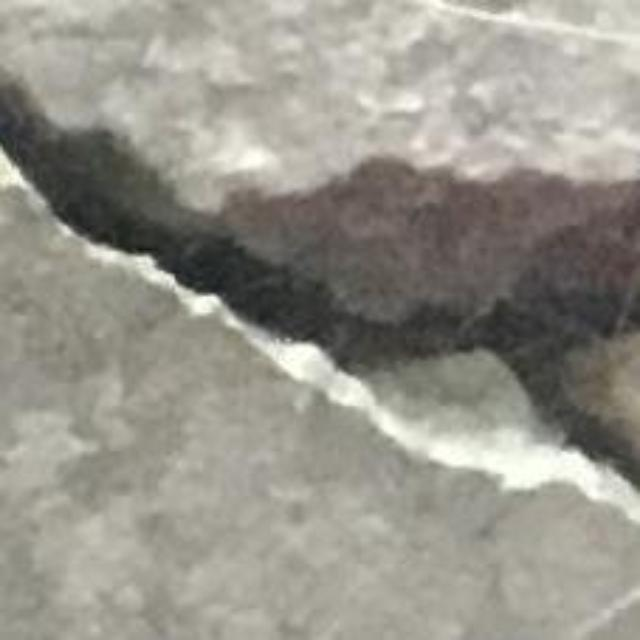crack: (0, 74, 639, 501)
